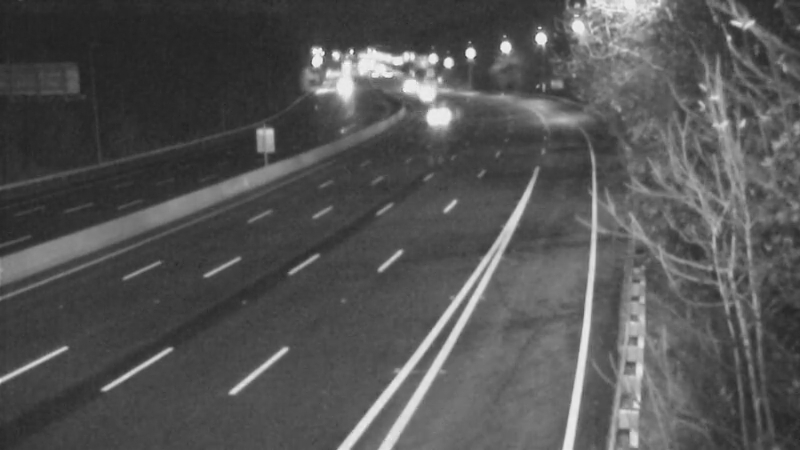vehicle: (403, 69, 453, 119), (406, 92, 456, 142)
